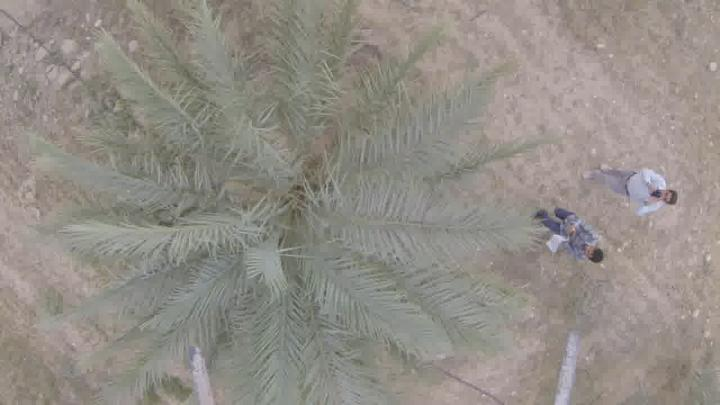Date-Palm-Crown: (148, 54, 434, 348)
